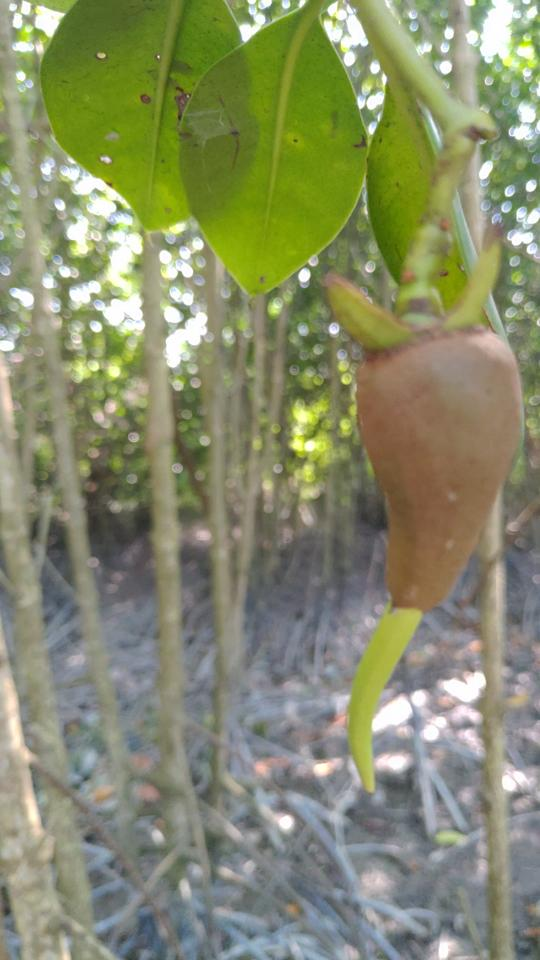mentah: (326, 229, 534, 806)
